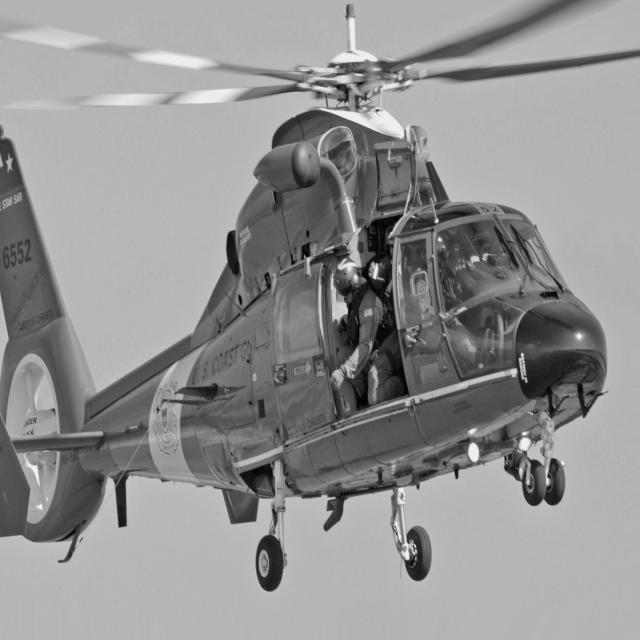helicopter: (1, 1, 620, 588)
